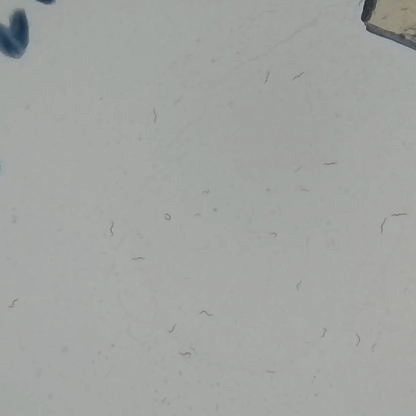worm: (187, 202, 228, 224), (141, 100, 164, 136), (257, 361, 294, 380), (315, 159, 345, 180), (152, 209, 176, 230), (258, 63, 276, 90), (162, 317, 180, 344), (290, 185, 322, 200), (370, 331, 387, 359), (292, 271, 309, 298), (103, 216, 119, 244), (261, 226, 287, 243), (194, 306, 216, 326), (374, 214, 390, 241), (284, 161, 311, 177), (193, 184, 220, 200), (124, 252, 151, 267), (287, 66, 308, 85), (1, 295, 23, 312), (172, 347, 194, 363), (353, 324, 363, 357), (387, 208, 414, 218), (313, 325, 333, 336)
